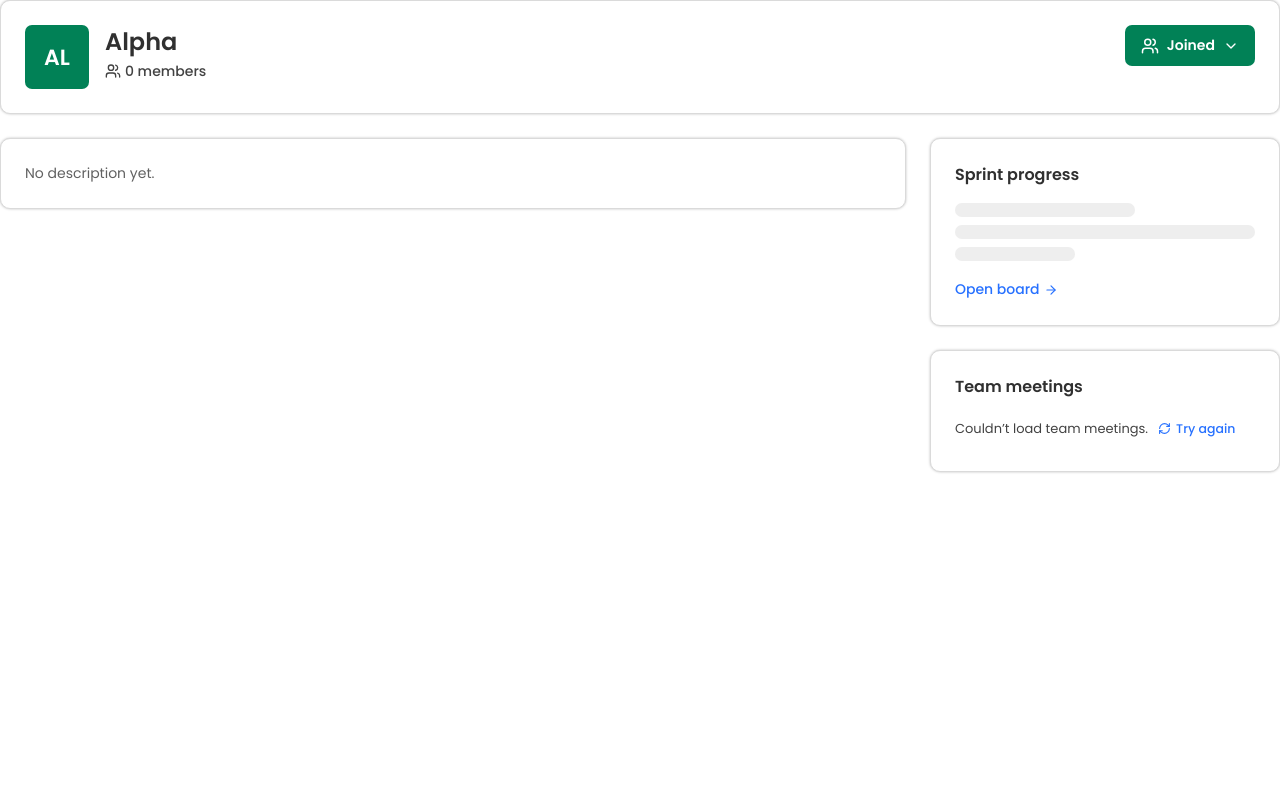
Test: ProjectView — the team meetings card › says so when the meetings cannot load, and tries again
Check: the text "Couldn’t load team meetings." is shown, box top-left (955, 419), bottom-right (1148, 438)
Click the button "Try again": (1197, 429) top-left (1158, 420), bottom-right (1235, 438)
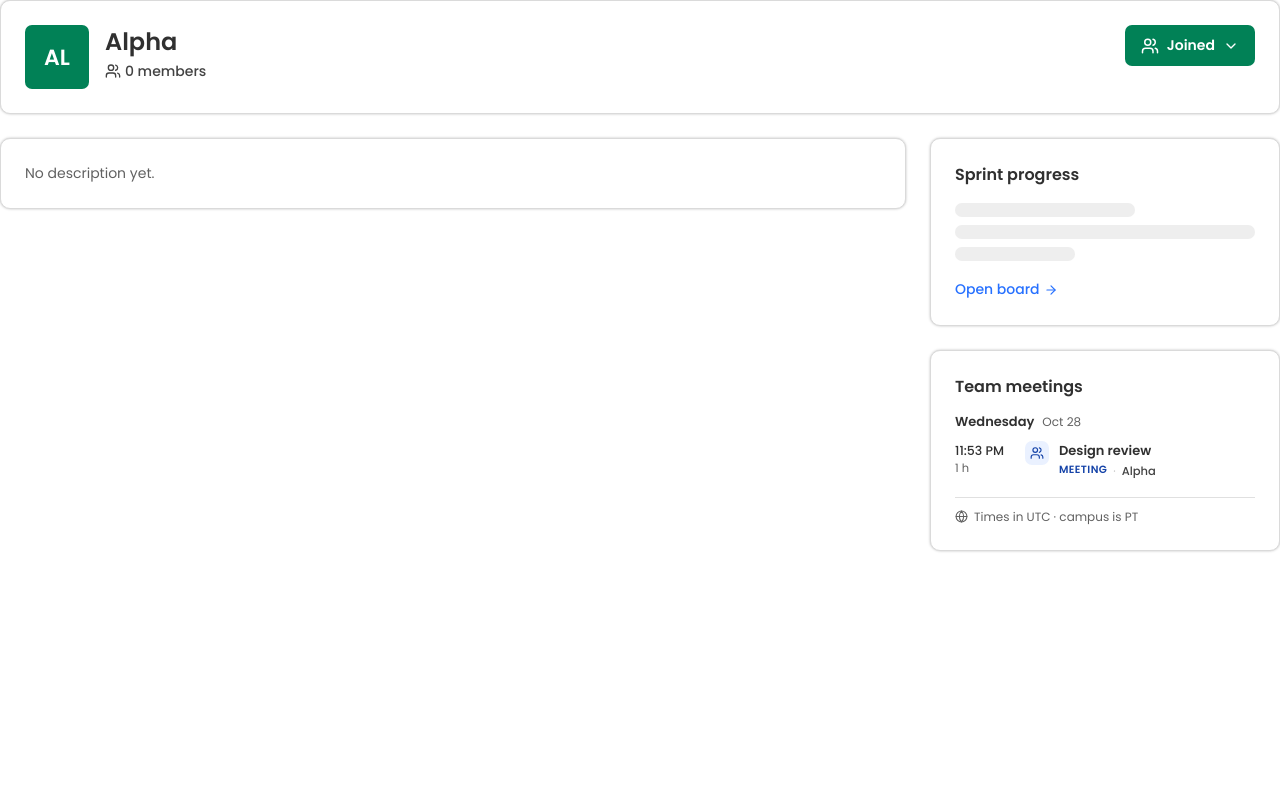
Check: the text "Design review" is shown, box top-left (1059, 442), bottom-right (1151, 460)
